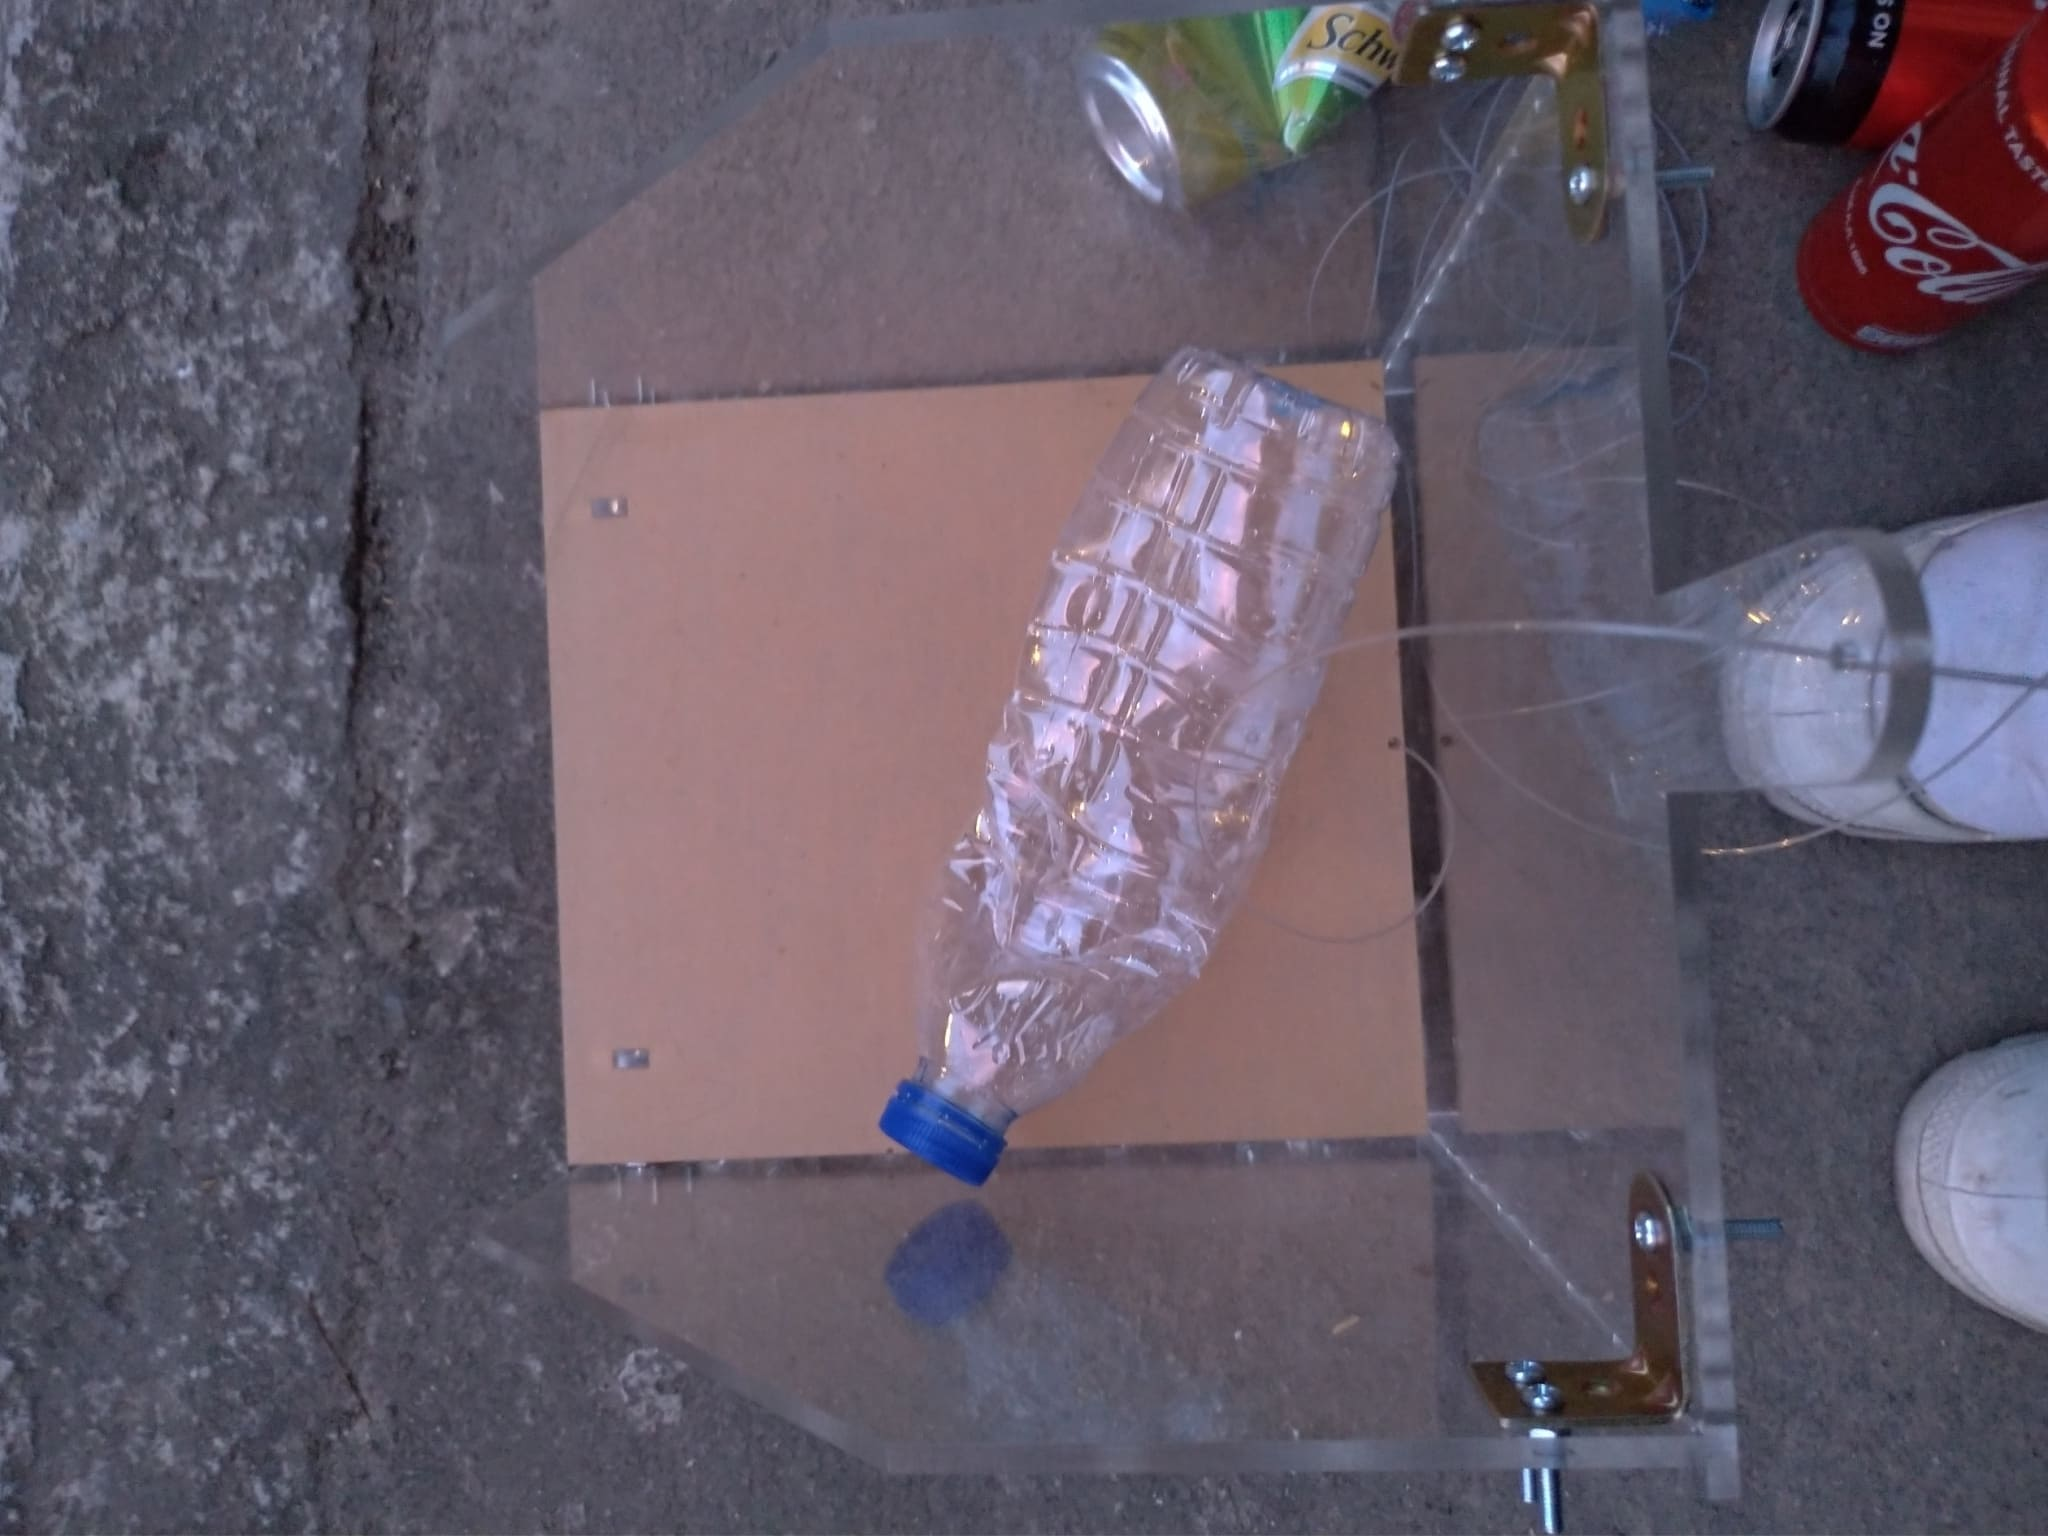AlCan: (1796, 19, 2045, 360), (1066, 11, 1393, 215), (1746, 6, 1961, 145)
PlasticBottle: (872, 337, 1401, 1196)
